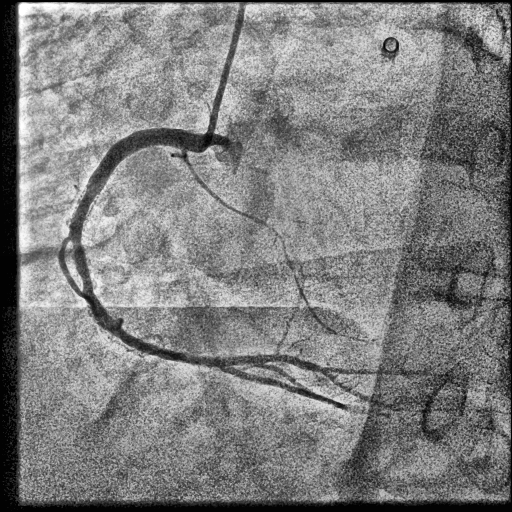pborca: (232, 355, 449, 375)
pda: (219, 366, 389, 417)
rca: (69, 128, 234, 366)
